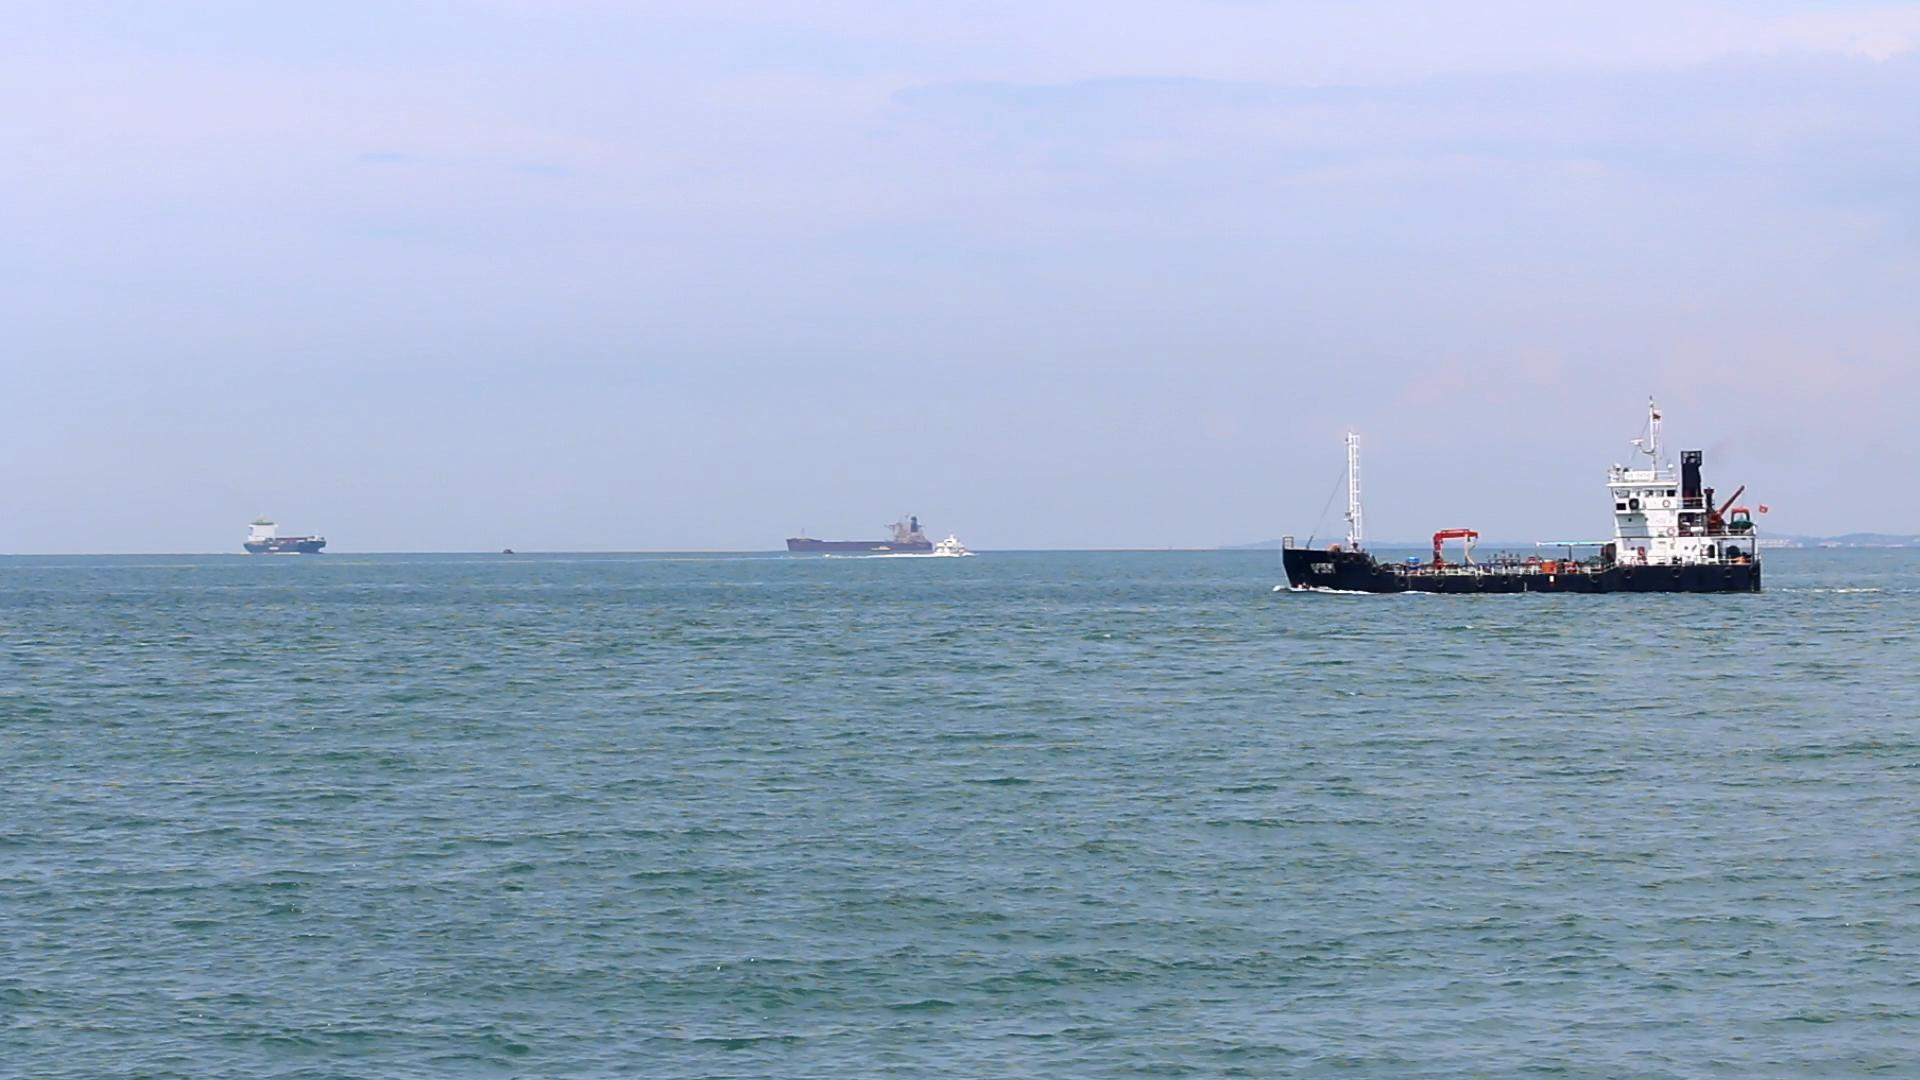Container Ship: (1270, 393, 1770, 601), (786, 505, 939, 562), (240, 509, 335, 555)
